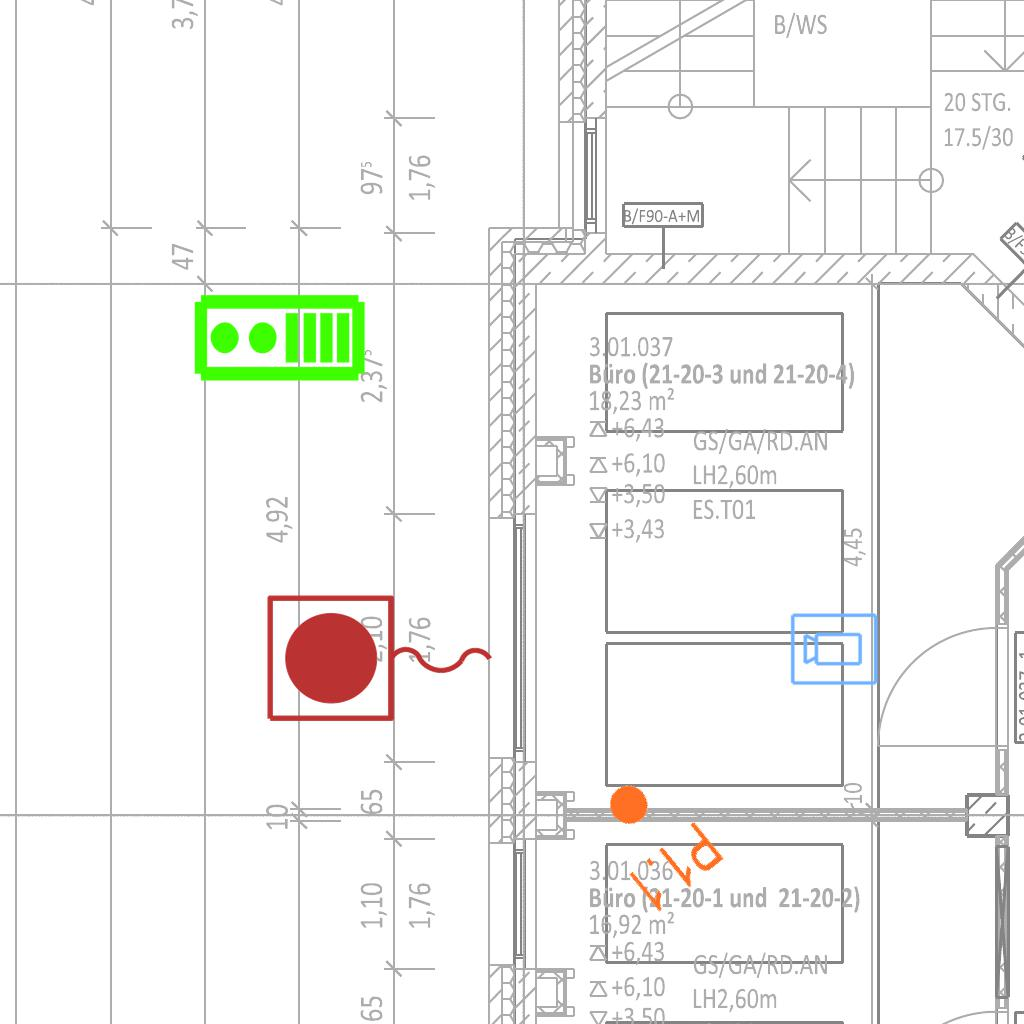Downlight_LED_Einbauleuchten_Flur: (576, 759, 729, 919)
Gegensprechanlage_mit_Video: (191, 292, 367, 387)
KFO_Kamera_mit_Festobjektiv: (789, 610, 880, 687)
Zugtaster: (259, 588, 503, 732)
